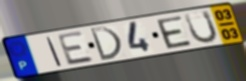4: (128, 20, 154, 56)
D: (88, 25, 124, 62)
E: (55, 29, 96, 67), (154, 14, 194, 50)
I: (44, 36, 64, 68)
U: (183, 9, 220, 45)
